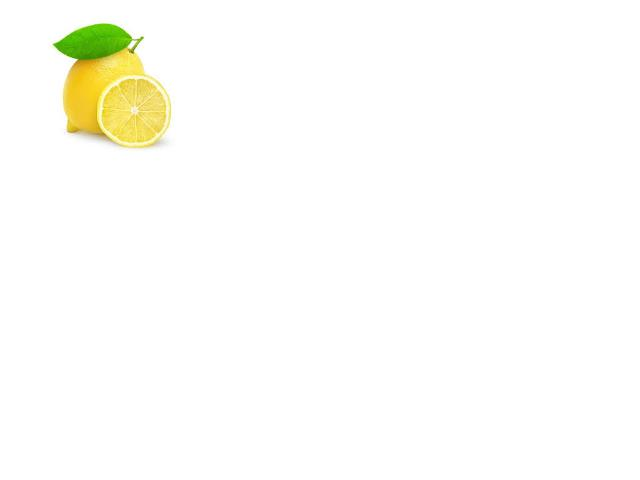lemon: (61, 34, 156, 142)
